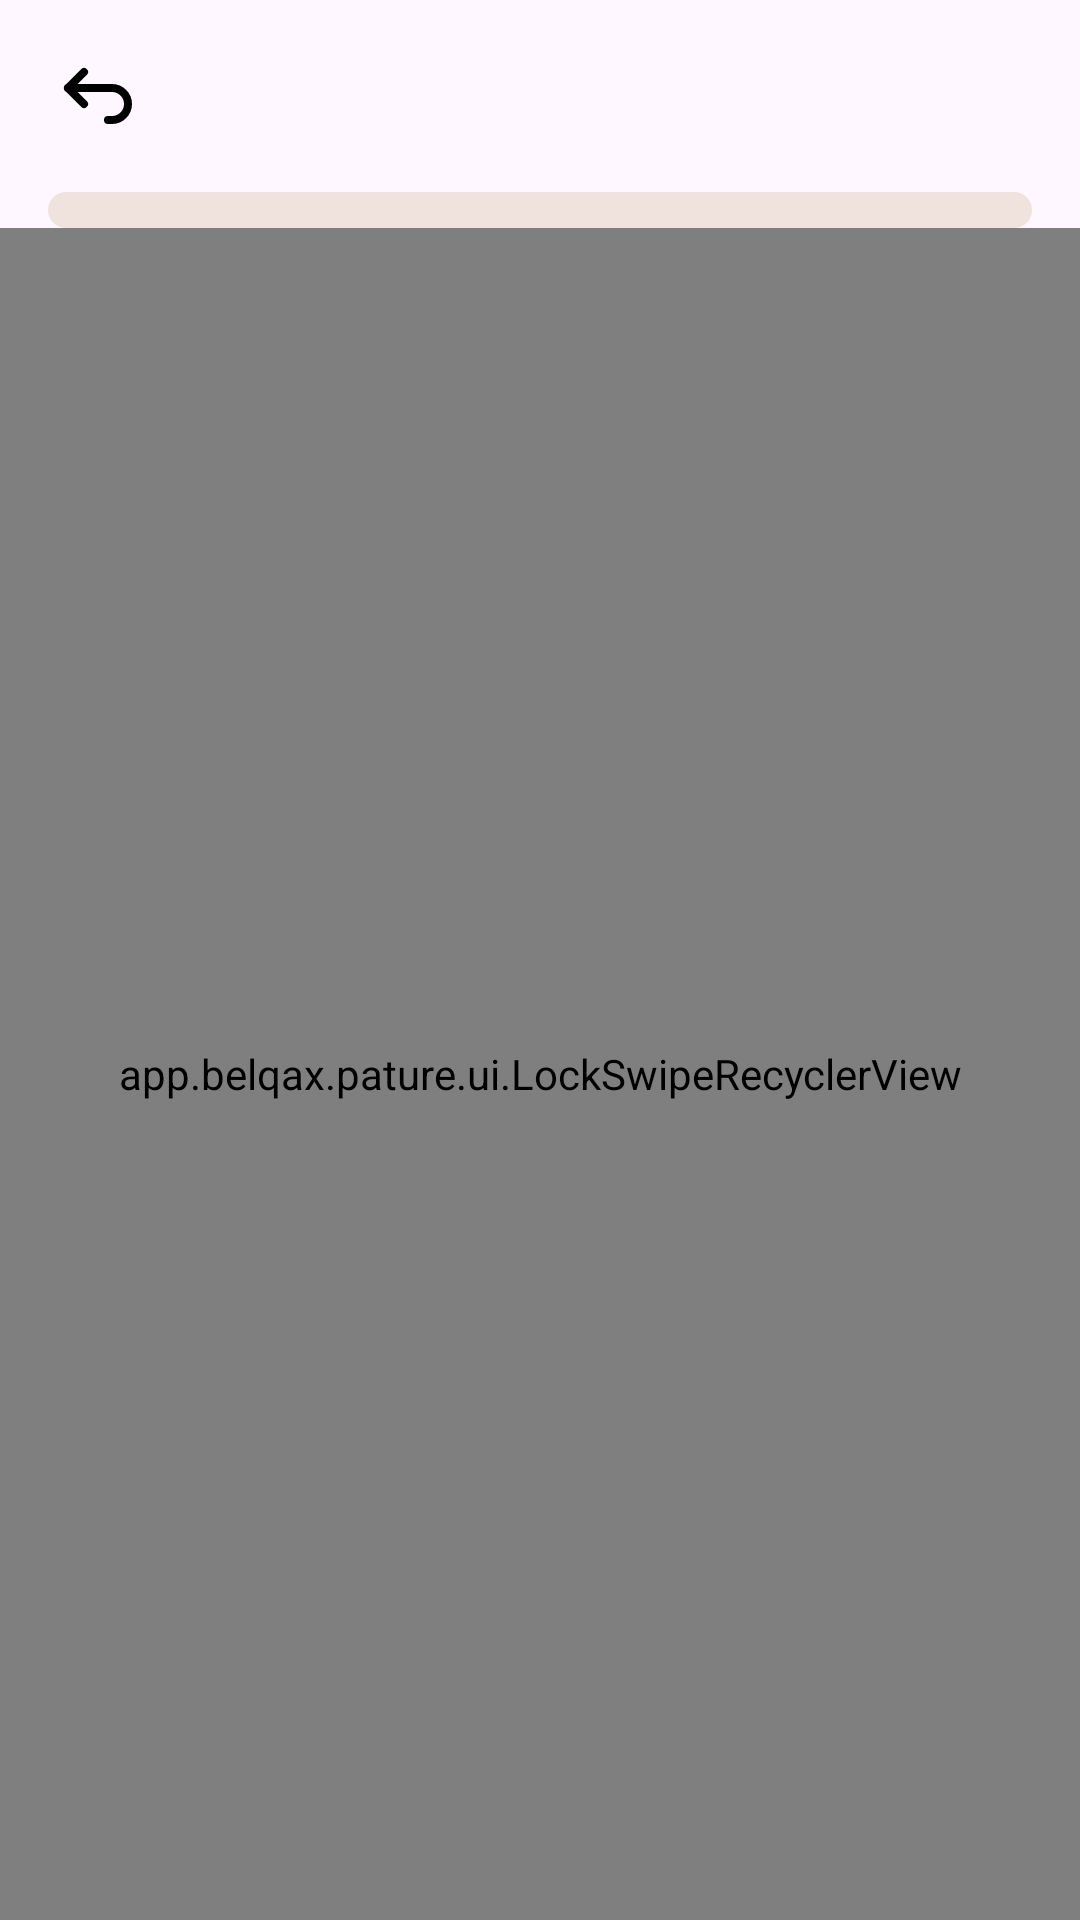

Icons on this 1080w x 1920h Android screen, each with its box as (x1, y1, x2, y2):
back: (63, 67, 132, 124)
